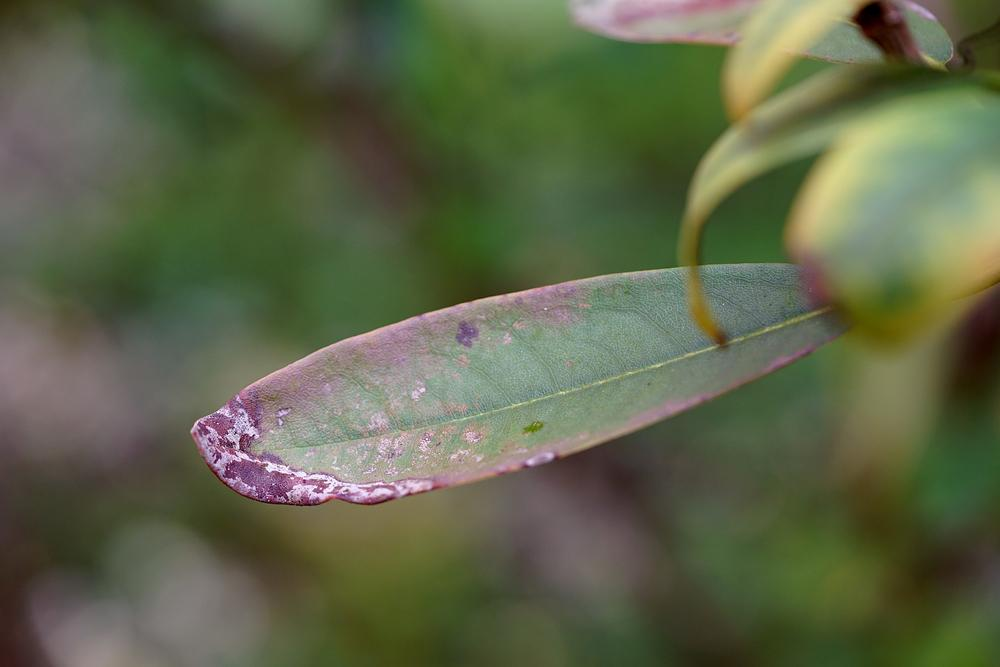late_blight: (192, 392, 432, 504), (455, 322, 477, 346)
